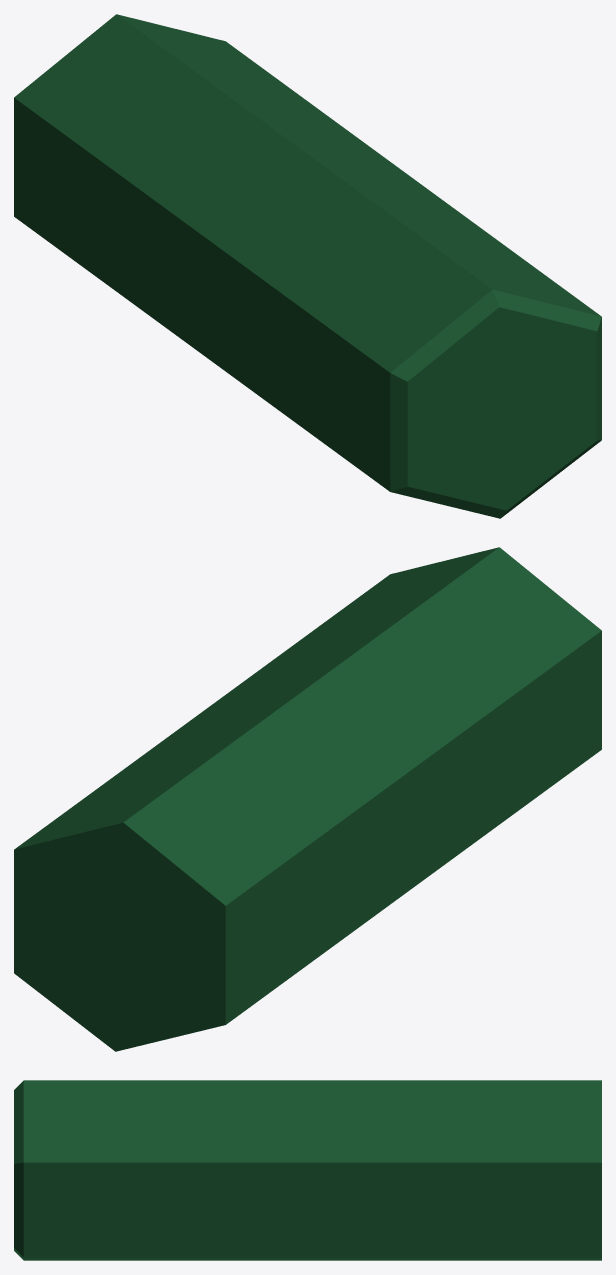
The model's file is Hexagon.fbx.
3 renders of one model, top to bottom at view 1: azimuth 30°, elevation 25°; view 2: azimuth 150°, elevation 25°; view 3: azimuth 270°, elevation 25°, orthographic. The views are drawn at different scales.
Parts seen in each view (by area): view 1: Hexagon; view 2: Hexagon; view 3: Hexagon.
Boxes of the visible parts, x1=… form: Hexagon: x1=14, y1=14, x2=601, y2=518; Hexagon: x1=14, y1=547, x2=601, y2=1051; Hexagon: x1=14, y1=1080, x2=601, y2=1260.
Size of the model in its own units: 95.89 by 100 by 300.
